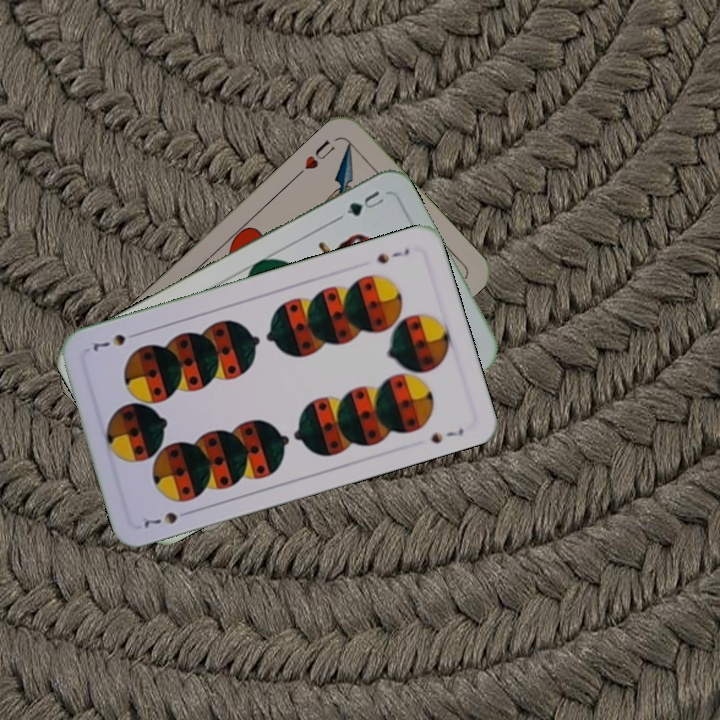GU: (342, 186, 387, 219)
HU: (292, 135, 338, 180)
S7: (139, 506, 195, 531), (372, 243, 412, 267)
